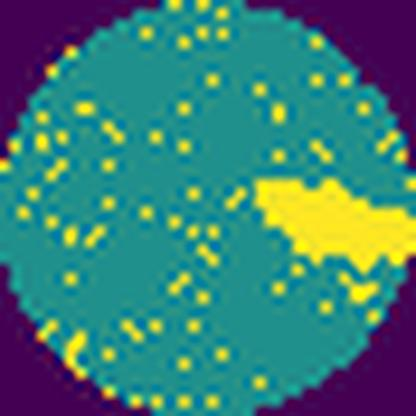Loc: (255, 178, 416, 260)
